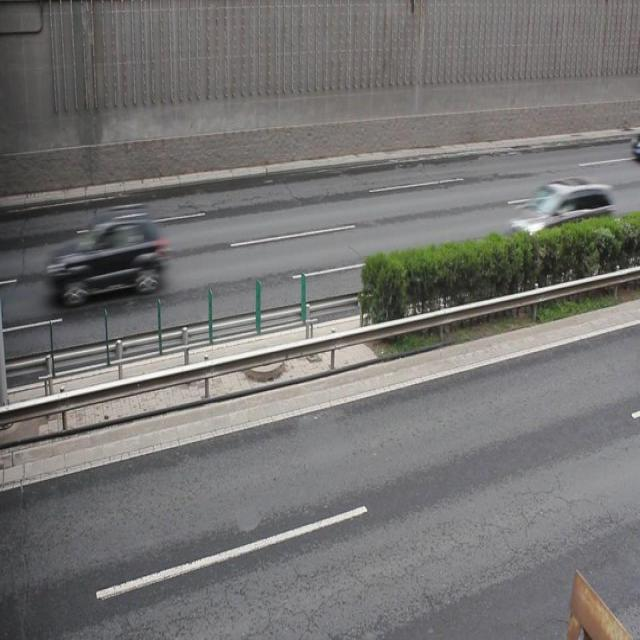car: (46, 213, 164, 307), (510, 177, 611, 259)
